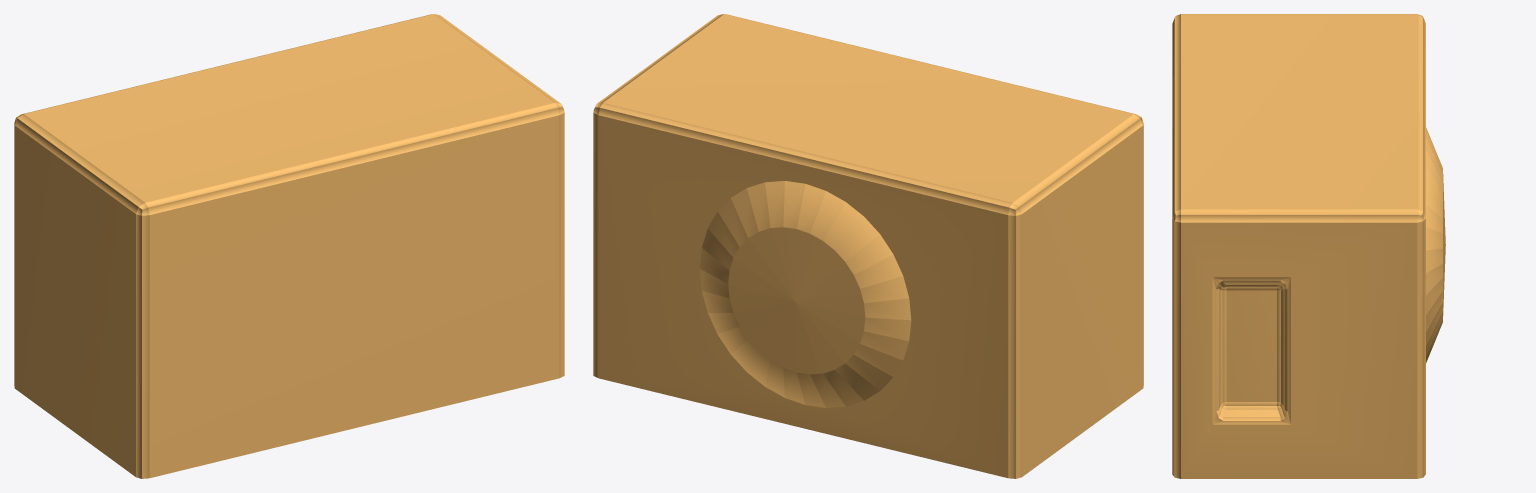
Rendered from BodymeshMicrowaveA9_0_GeomSubset_4.obj.
The picture shows the model from 3 angles, left to right: view 1: azimuth 30°, elevation 25°; view 2: azimuth 150°, elevation 25°; view 3: azimuth 270°, elevation 25°; orthographic projection. The views are drawn at different scales.
Visible parts, largest first — view 1: BodymeshMicrowaveA9_0_GeomSubset_4; view 2: BodymeshMicrowaveA9_0_GeomSubset_4; view 3: BodymeshMicrowaveA9_0_GeomSubset_4.
Boxes of the visible parts, x1,y1,x2,y2 form: BodymeshMicrowaveA9_0_GeomSubset_4: [14, 14, 564, 478]; BodymeshMicrowaveA9_0_GeomSubset_4: [593, 14, 1143, 478]; BodymeshMicrowaveA9_0_GeomSubset_4: [1172, 14, 1445, 478].
Size of the model in its own units: 0.4238 by 0.2577 by 0.3073.
